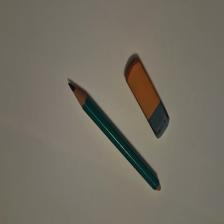eraser: (126, 60, 171, 141)
pencil: (69, 84, 162, 193)
